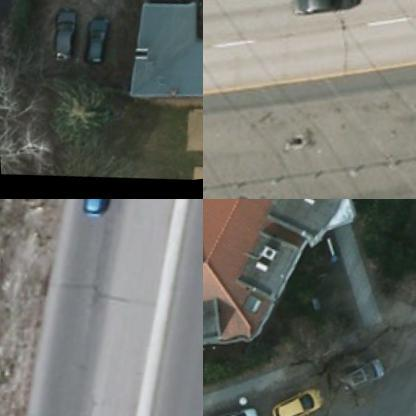car: (30, 6, 95, 74), (62, 12, 127, 78), (327, 364, 384, 414), (285, 0, 363, 36), (62, 0, 128, 23), (267, 392, 327, 415), (81, 199, 115, 224)
